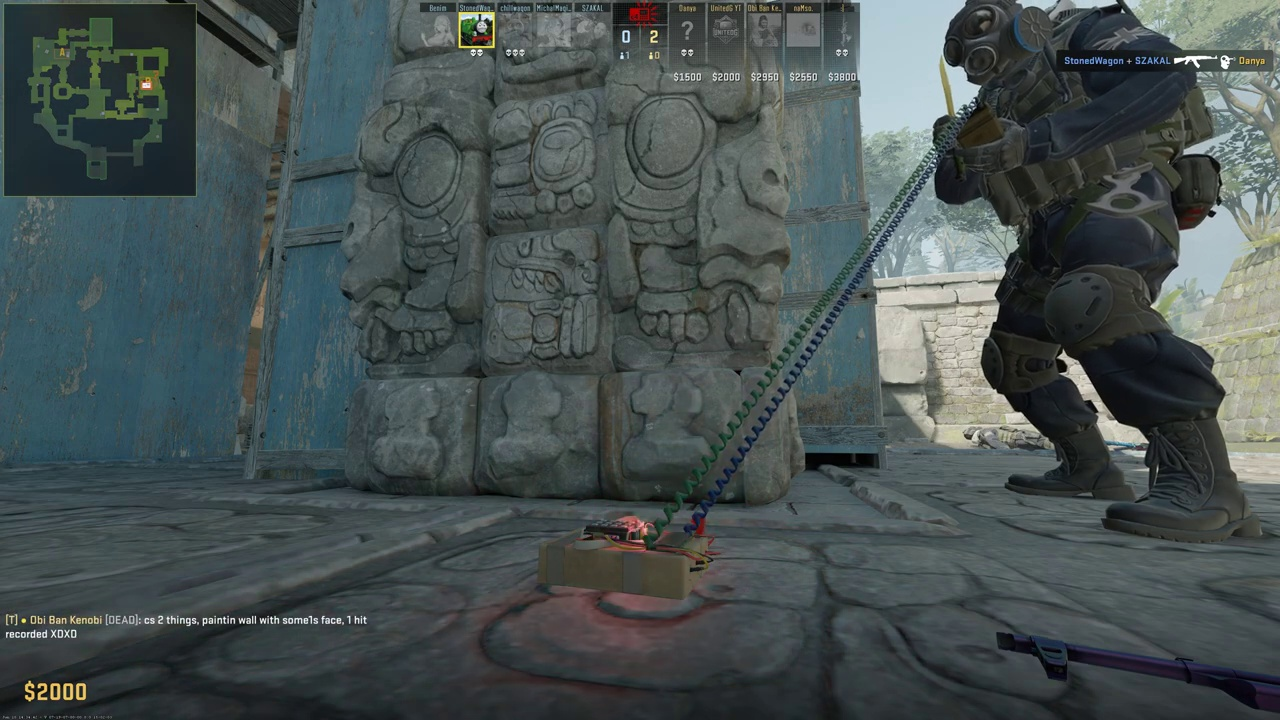CT: (940, 2, 1229, 536)
